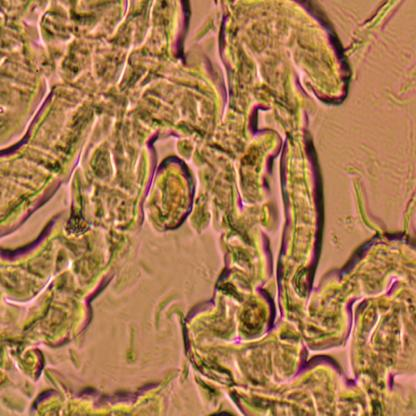Normal: (0, 0, 329, 416)
